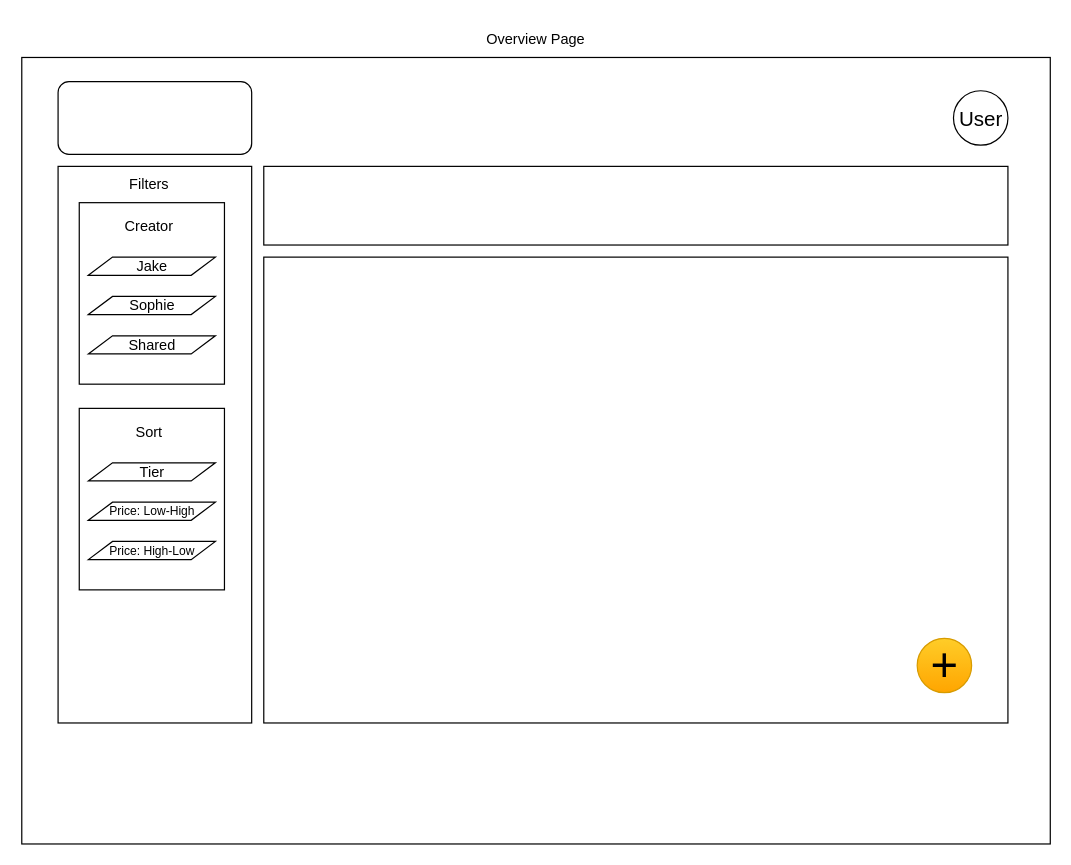
This 1071x865 diagram has some shape labels left out. The box of each missing label's shape, as (x1, y1, x2, y2) in pixels:
Featured Item Goal Completion [=====----------]: (263, 165, 1008, 245)
Saving App: (57, 80, 252, 154)
